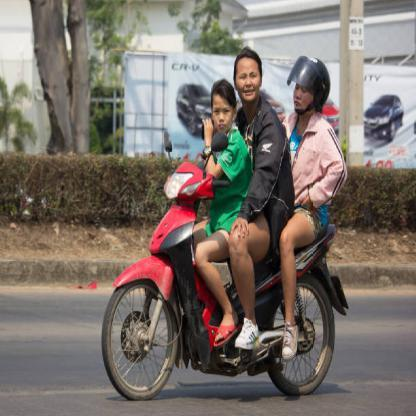Motorcycle: (93, 140, 349, 401)
